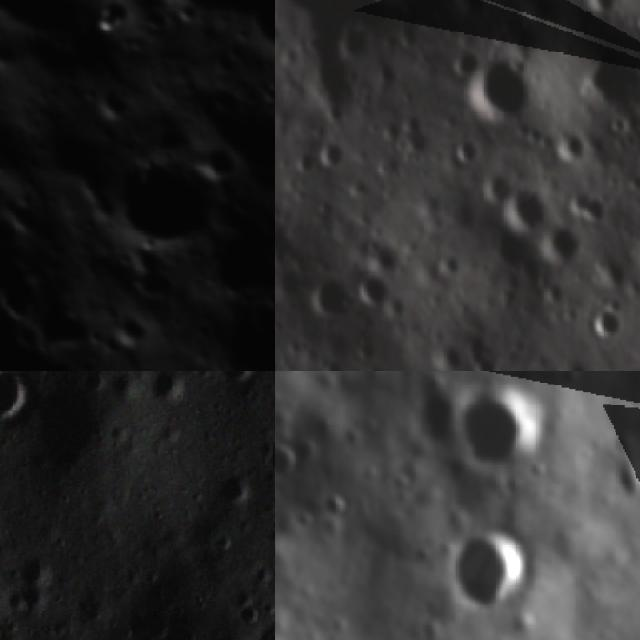crater: (87, 126, 238, 266), (182, 195, 275, 324), (438, 514, 541, 626), (451, 377, 558, 475), (23, 381, 117, 475), (397, 372, 468, 455), (120, 241, 191, 320), (72, 71, 142, 145), (458, 60, 532, 128), (566, 43, 638, 101), (0, 544, 56, 612), (230, 0, 275, 83), (192, 139, 238, 190), (497, 188, 548, 232), (305, 276, 353, 322), (109, 311, 154, 359), (536, 222, 582, 268), (0, 371, 27, 434), (275, 431, 307, 482), (215, 468, 253, 510), (146, 371, 184, 413), (318, 486, 356, 528), (586, 304, 622, 344), (257, 275, 275, 354), (446, 47, 482, 84), (477, 168, 513, 205), (355, 272, 389, 308), (313, 136, 346, 170), (207, 371, 256, 391), (258, 421, 275, 477), (448, 136, 479, 165), (0, 171, 14, 218), (585, 0, 618, 18), (624, 172, 640, 192)
